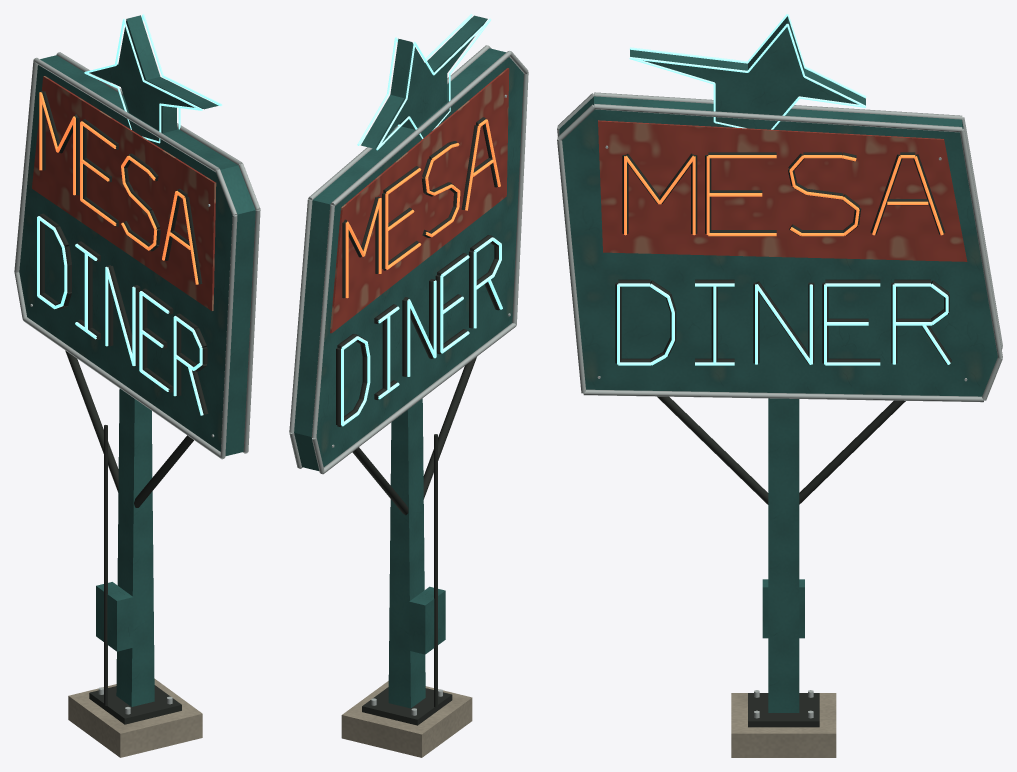
File: SM_Mesa_Sign_LOD1.fbx
3 views of the same model, side by side, from view 1: azimuth 30°, elevation 25°; view 2: azimuth 150°, elevation 25°; view 3: azimuth 270°, elevation 25° (orthographic). The views are drawn at different scales.
Visible parts, largest first — view 1: SM_Mesa_Sign_LOD1; view 2: SM_Mesa_Sign_LOD1; view 3: SM_Mesa_Sign_LOD1.
Boxes of the visible parts, x1=… form: SM_Mesa_Sign_LOD1: x1=14, y1=14, x2=260, y2=757; SM_Mesa_Sign_LOD1: x1=289, y1=14, x2=528, y2=757; SM_Mesa_Sign_LOD1: x1=557, y1=14, x2=1002, y2=757.
Bounding box in the file's own units: 0.75 × 3.48 × 6.18.
